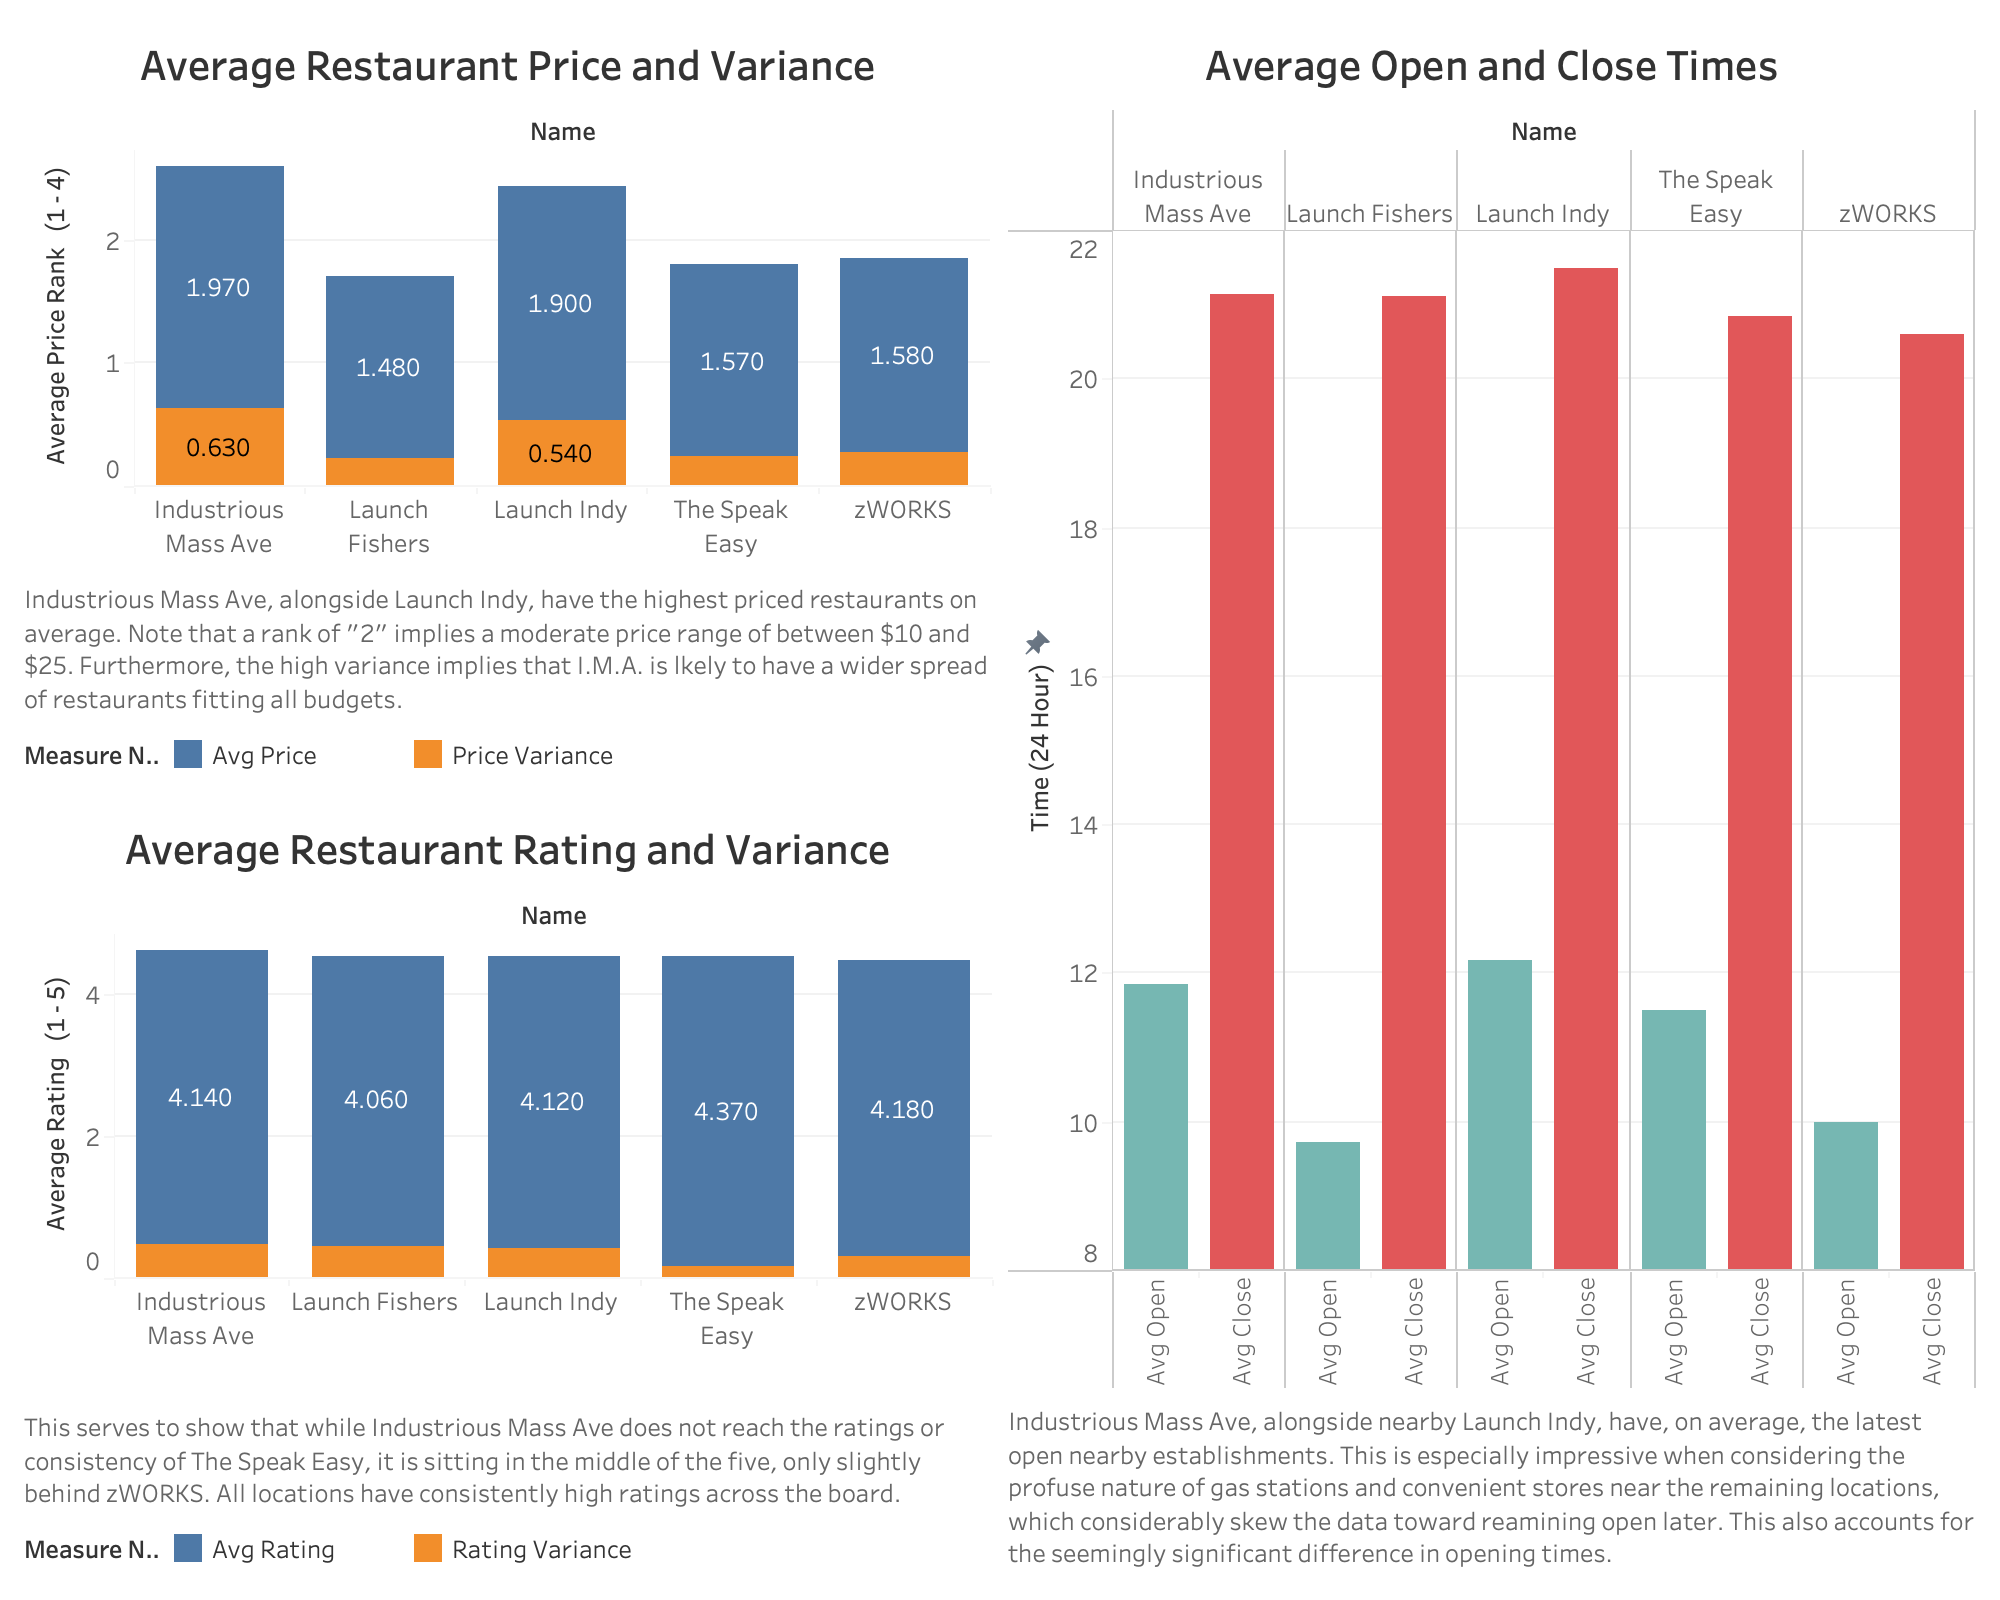

The page's visual inventory and layout, read from the dashboard file:
{"tool":"tableau","page":{"name":"Restaurant Scene","canvas":[1000,800],"ordinal":1},"visuals":[{"type":"worksheet","title":"Rest. Price/Var","mark":"Automatic","cols":["Name"],"box":[8,8,492,354.5]},{"type":"worksheet","title":"Open and Close Times","mark":"Automatic","cols":["Name"],"box":[500,8,492,784]},{"type":"legend","title":"Rest. Price/Var","param":"[federated.1licjxe08yf4wh15o1pmp0eg7xo6].[:Measure Names]","box":[8,362.5,492,37.5]},{"type":"worksheet","title":"Rest. Rating/Var","mark":"Automatic","cols":["Name"],"box":[8,400,492,360]},{"type":"legend","title":"Rest. Rating/Var","param":"[federated.1licjxe08yf4wh15o1pmp0eg7xo6].[:Measure Names]","box":[8,760,492,32]}]}

Visuals, with their boxes in screenshot pixels (x1, y1, x2, y2), scaled from the page's 1000x800 canvas onto the 2000x1600 screenshot:
"Rest. Price/Var" worksheet: <region>16, 16, 1000, 725</region>
"Open and Close Times" worksheet: <region>1000, 16, 1984, 1584</region>
"Rest. Price/Var" legend: <region>16, 725, 1000, 800</region>
"Rest. Rating/Var" worksheet: <region>16, 800, 1000, 1520</region>
"Rest. Rating/Var" legend: <region>16, 1520, 1000, 1584</region>
